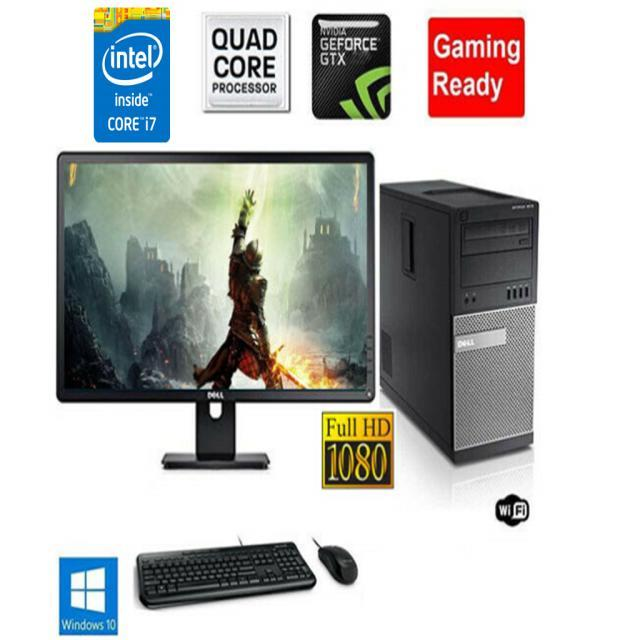Computer-Keyboard: (133, 544, 315, 610)
Computer-Mouse: (315, 537, 369, 595)
Desktop-PC: (384, 166, 578, 478)
Flat-Panel-Monitor: (46, 140, 382, 412)
